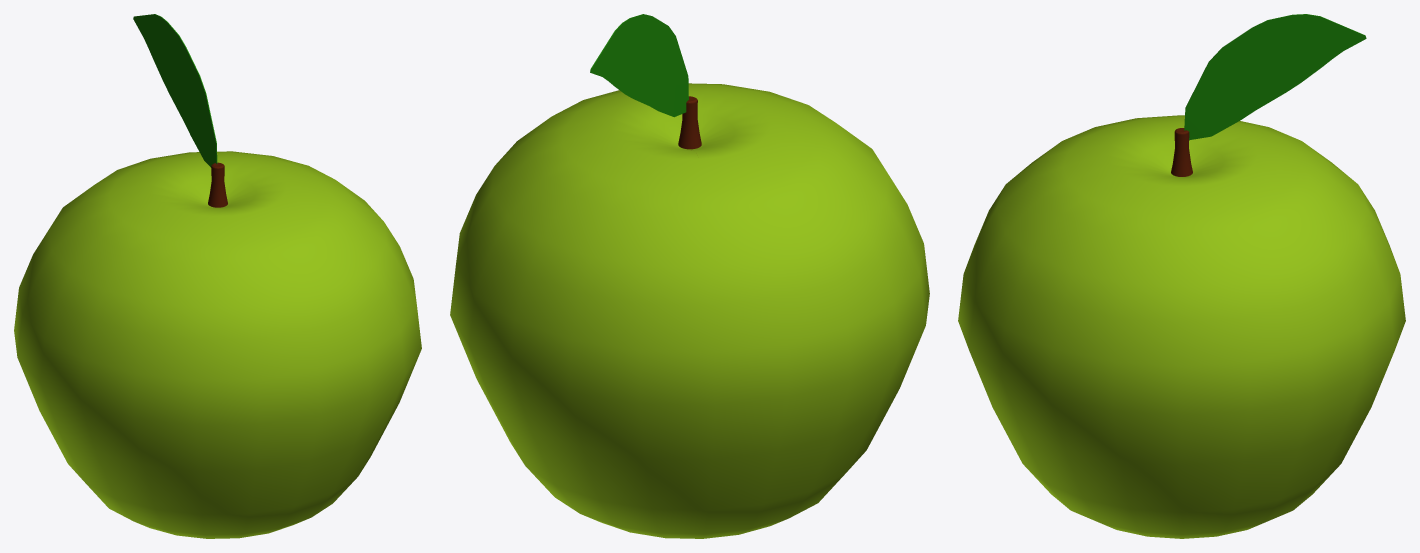
File: BIG APPLE.fbx
3 views of the same model, side by side, from view 1: azimuth 30°, elevation 25°; view 2: azimuth 150°, elevation 25°; view 3: azimuth 270°, elevation 25° (orthographic). The views are drawn at different scales.
Visible parts, largest first — view 1: pCylinder7, pPlane2; view 2: pCylinder7, pPlane2; view 3: pCylinder7, pPlane2.
Boxes of the visible parts, x1,y1,x2,y2 form: pCylinder7: (14,151,421,538); pPlane2: (133,14,217,167); pCylinder7: (450,83,929,538); pPlane2: (590,14,688,117); pCylinder7: (958,115,1405,538); pPlane2: (1184,14,1366,140).
Bounding box in the file's own units: 382 × 461 × 382.
1 material, 1 textured.
